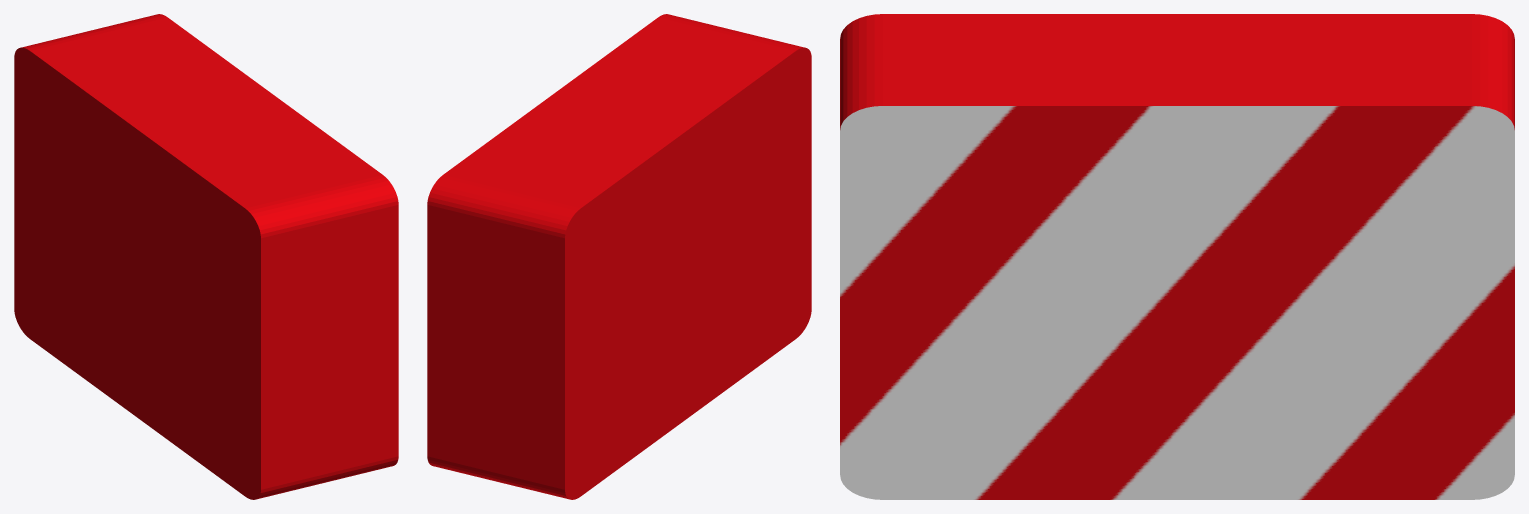
File: Brick.fbx
3 views of the same model, side by side, from view 1: azimuth 30°, elevation 25°; view 2: azimuth 150°, elevation 25°; view 3: azimuth 270°, elevation 25° (orthographic). The views are drawn at different scales.
Parts seen in each view (by area): view 1: Cube; view 2: Cube; view 3: Cube.
Part boxes in pixels (x1=…): Cube: x1=14, y1=14, x2=398, y2=499; Cube: x1=427, y1=14, x2=811, y2=499; Cube: x1=840, y1=14, x2=1514, y2=499.
Size of the model in its own units: 268 by 536 by 831.
Materials: 2 (1 with a texture image).
